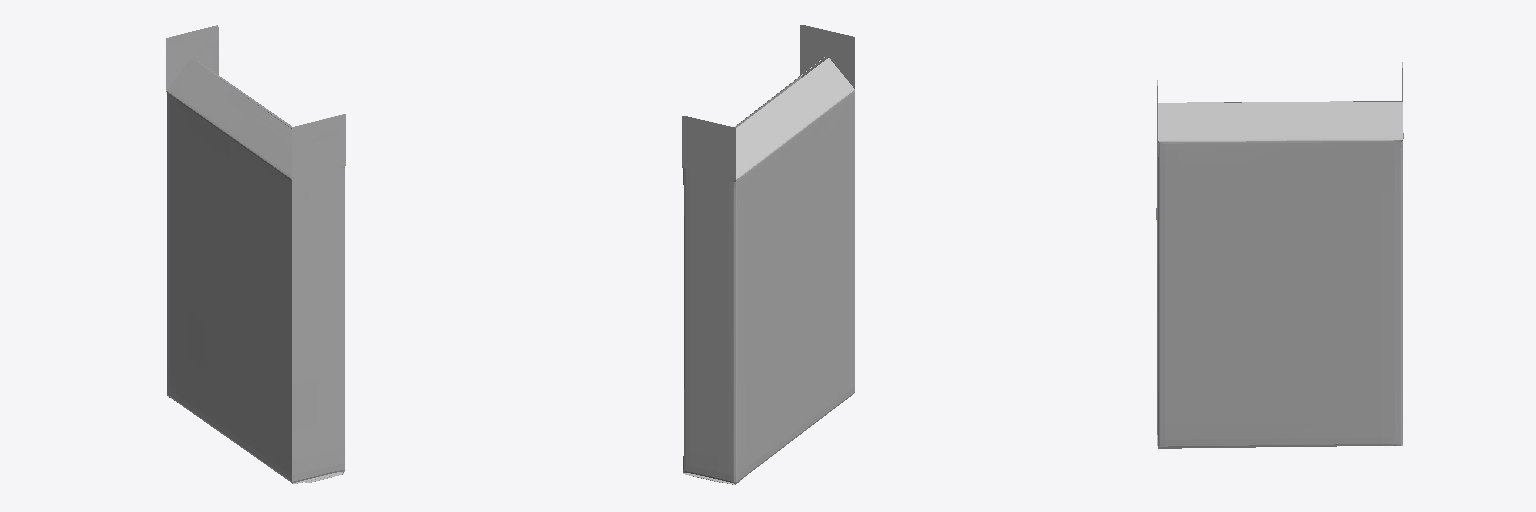
The model's file is cereal_box.obj.
The picture shows the model from 3 angles: view 1: azimuth 30°, elevation 25°; view 2: azimuth 150°, elevation 25°; view 3: azimuth 270°, elevation 25°; orthographic projection.
Visible parts, largest first — view 1: blender_wheats_box_Plane.015; view 2: blender_wheats_box_Plane.015; view 3: blender_wheats_box_Plane.015.
Boxes of the visible parts, <box> form: blender_wheats_box_Plane.015: <box>166,25,345,483</box>; blender_wheats_box_Plane.015: <box>682,25,854,484</box>; blender_wheats_box_Plane.015: <box>1156,62,1403,448</box>.
Bounding box in the file's own units: 0.3603 × 2.12 × 1.32.